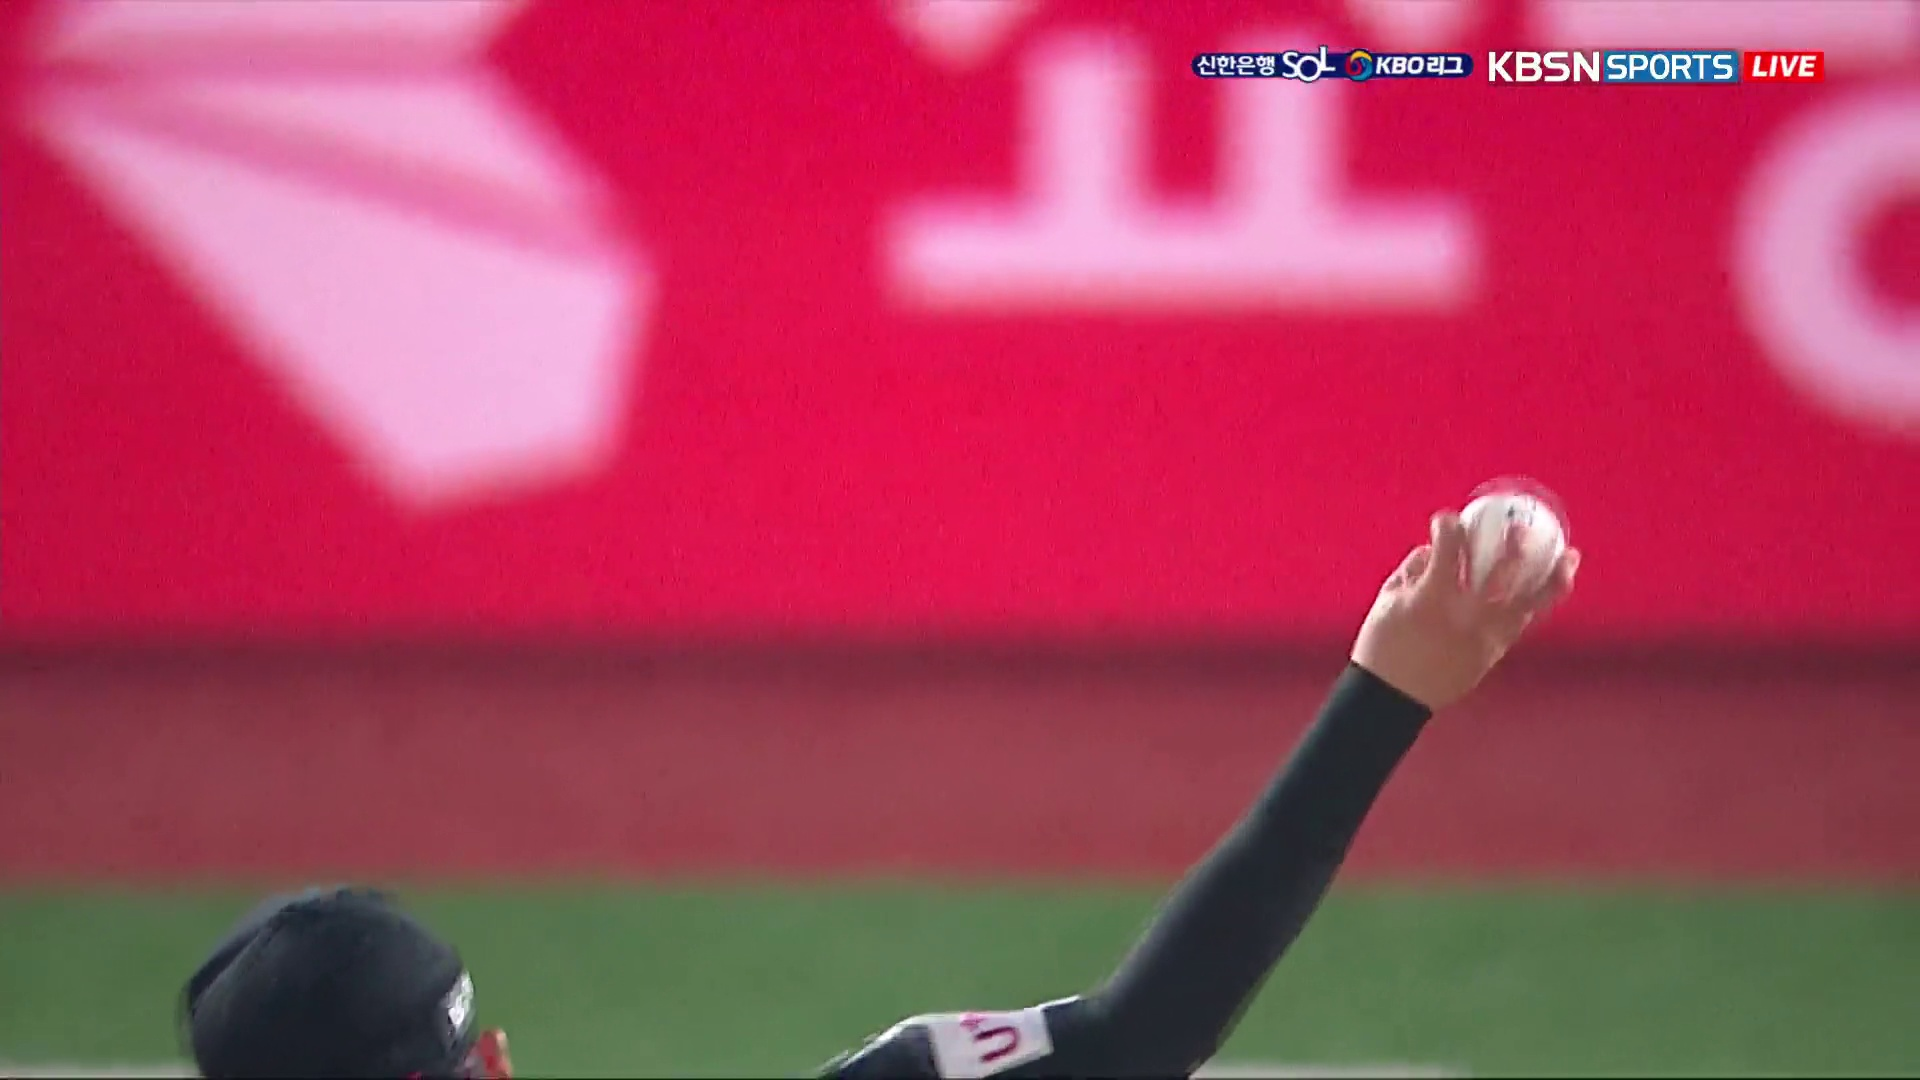zoomin_hand: (1087, 473, 1590, 1080)
